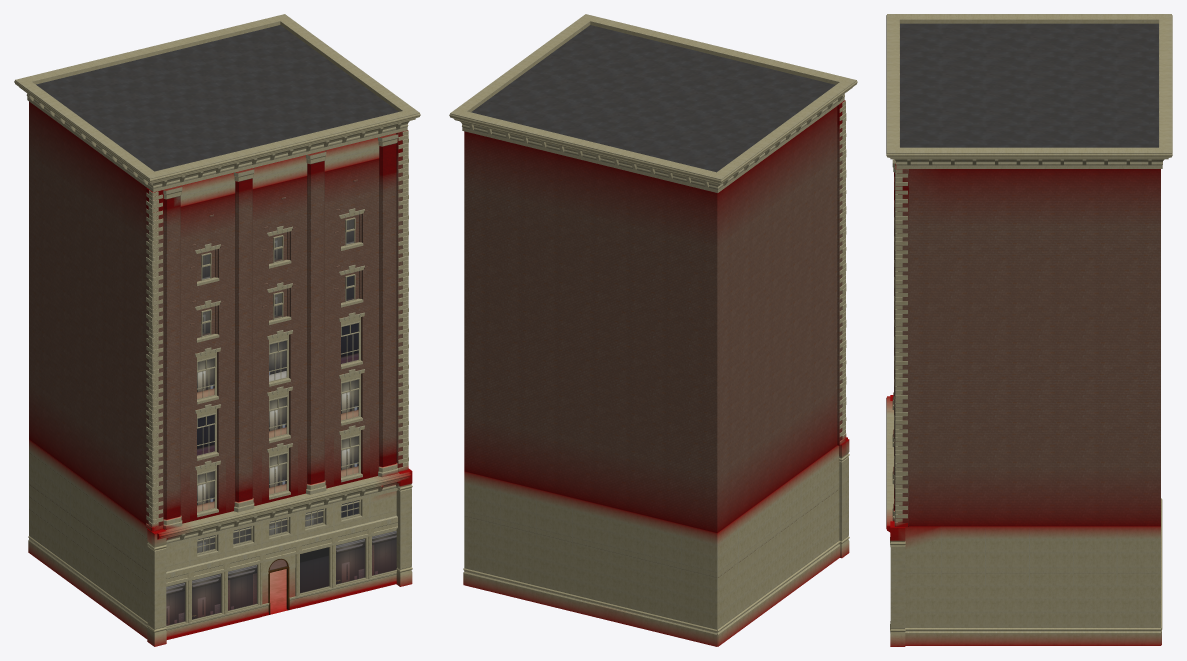
The model's file is CityMidrise.glb.
3 renders of one model, left to right at view 1: azimuth 30°, elevation 25°; view 2: azimuth 150°, elevation 25°; view 3: azimuth 270°, elevation 25°, orthographic. The views are drawn at different scales.
Parts seen in each view (by area): view 1: Building_Medium_2.001; view 2: Building_Medium_2.001; view 3: Building_Medium_2.001.
Part boxes in pixels (x1,y1,x2,y2): Building_Medium_2.001: [14, 14, 420, 646]; Building_Medium_2.001: [449, 14, 857, 646]; Building_Medium_2.001: [886, 14, 1172, 646].
Size of the model in its own units: 15.06 by 25.01 by 13.06.
12 materials, 11 textured.
